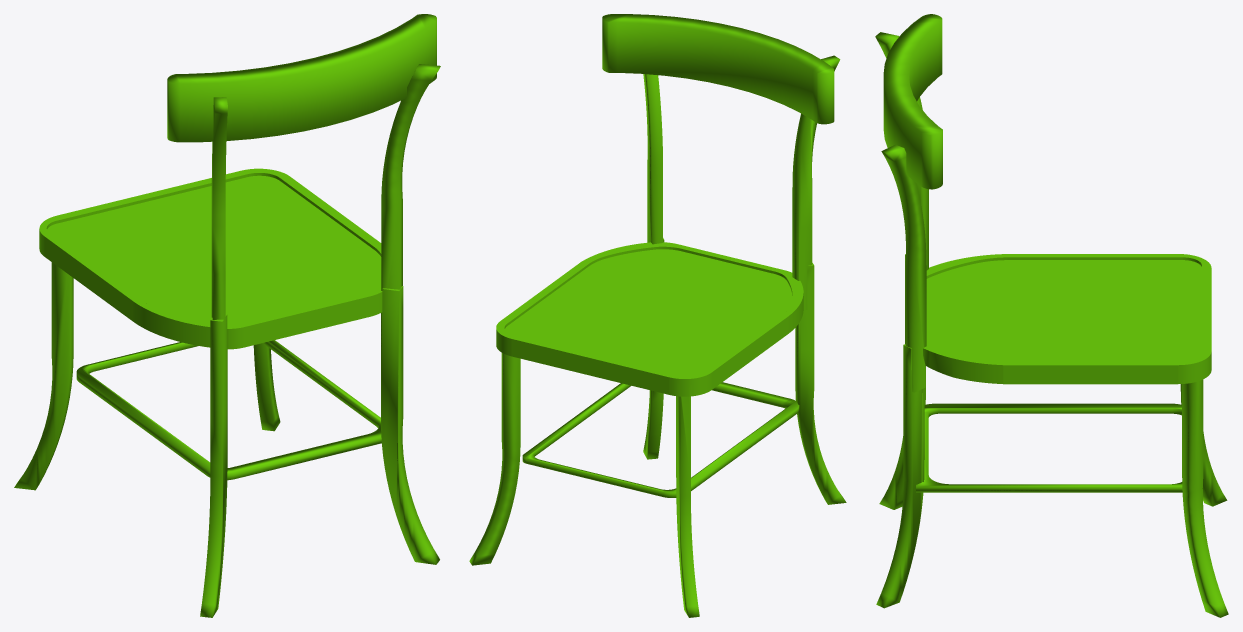
3 views of the same model, side by side, from view 1: azimuth 30°, elevation 25°; view 2: azimuth 150°, elevation 25°; view 3: azimuth 270°, elevation 25° (orthographic). The views are drawn at different scales.
Visible parts, largest first — view 1: mesh1_mesh1-geometry, mesh2_mesh2-geometry, mesh4_mesh4-geometry, mesh3_mesh3-geometry; view 2: mesh1_mesh1-geometry, mesh2_mesh2-geometry, mesh4_mesh4-geometry, mesh3_mesh3-geometry; view 3: mesh1_mesh1-geometry, mesh2_mesh2-geometry, mesh4_mesh4-geometry, mesh3_mesh3-geometry.
Part boxes in pixels (bbox=[...]): mesh1_mesh1-geometry: bbox=[14, 64, 440, 617]; mesh2_mesh2-geometry: bbox=[167, 14, 436, 142]; mesh4_mesh4-geometry: bbox=[76, 340, 381, 480]; mesh3_mesh3-geometry: bbox=[211, 97, 227, 370]; mesh1_mesh1-geometry: bbox=[469, 74, 846, 617]; mesh2_mesh2-geometry: bbox=[602, 14, 834, 124]; mesh4_mesh4-geometry: bbox=[522, 382, 799, 497]; mesh3_mesh3-geometry: bbox=[792, 55, 840, 310]; mesh1_mesh1-geometry: bbox=[876, 144, 1228, 617]; mesh2_mesh2-geometry: bbox=[883, 14, 942, 189]; mesh4_mesh4-geometry: bbox=[916, 403, 1182, 492]; mesh3_mesh3-geometry: bbox=[875, 32, 928, 270].
Bounding box in the file's own units: 0.4097 × 0.7599 × 0.5047.
